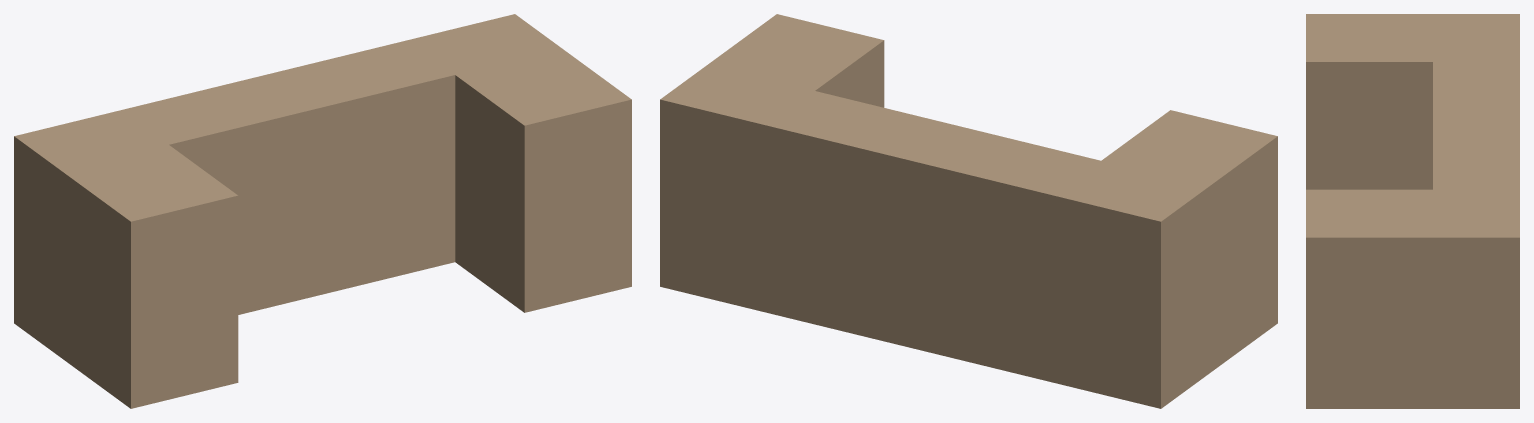
Rendered from underground-crossection.glb.
3 renders of one model, left to right at view 1: azimuth 30°, elevation 25°; view 2: azimuth 150°, elevation 25°; view 3: azimuth 270°, elevation 25°, orthographic. The views are drawn at different scales.
Parts seen in each view (by area): view 1: Mesh_Mesh_head_geo.001_lambert2SG.005; view 2: Mesh_Mesh_head_geo.001_lambert2SG.005; view 3: Mesh_Mesh_head_geo.001_lambert2SG.005.
Part boxes in pixels (x1,y1,x2,y2): Mesh_Mesh_head_geo.001_lambert2SG.005: (14, 14, 631, 408); Mesh_Mesh_head_geo.001_lambert2SG.005: (660, 14, 1277, 408); Mesh_Mesh_head_geo.001_lambert2SG.005: (1306, 14, 1519, 408).
Bounding box in the file's own units: 14 × 5 × 5.66.
